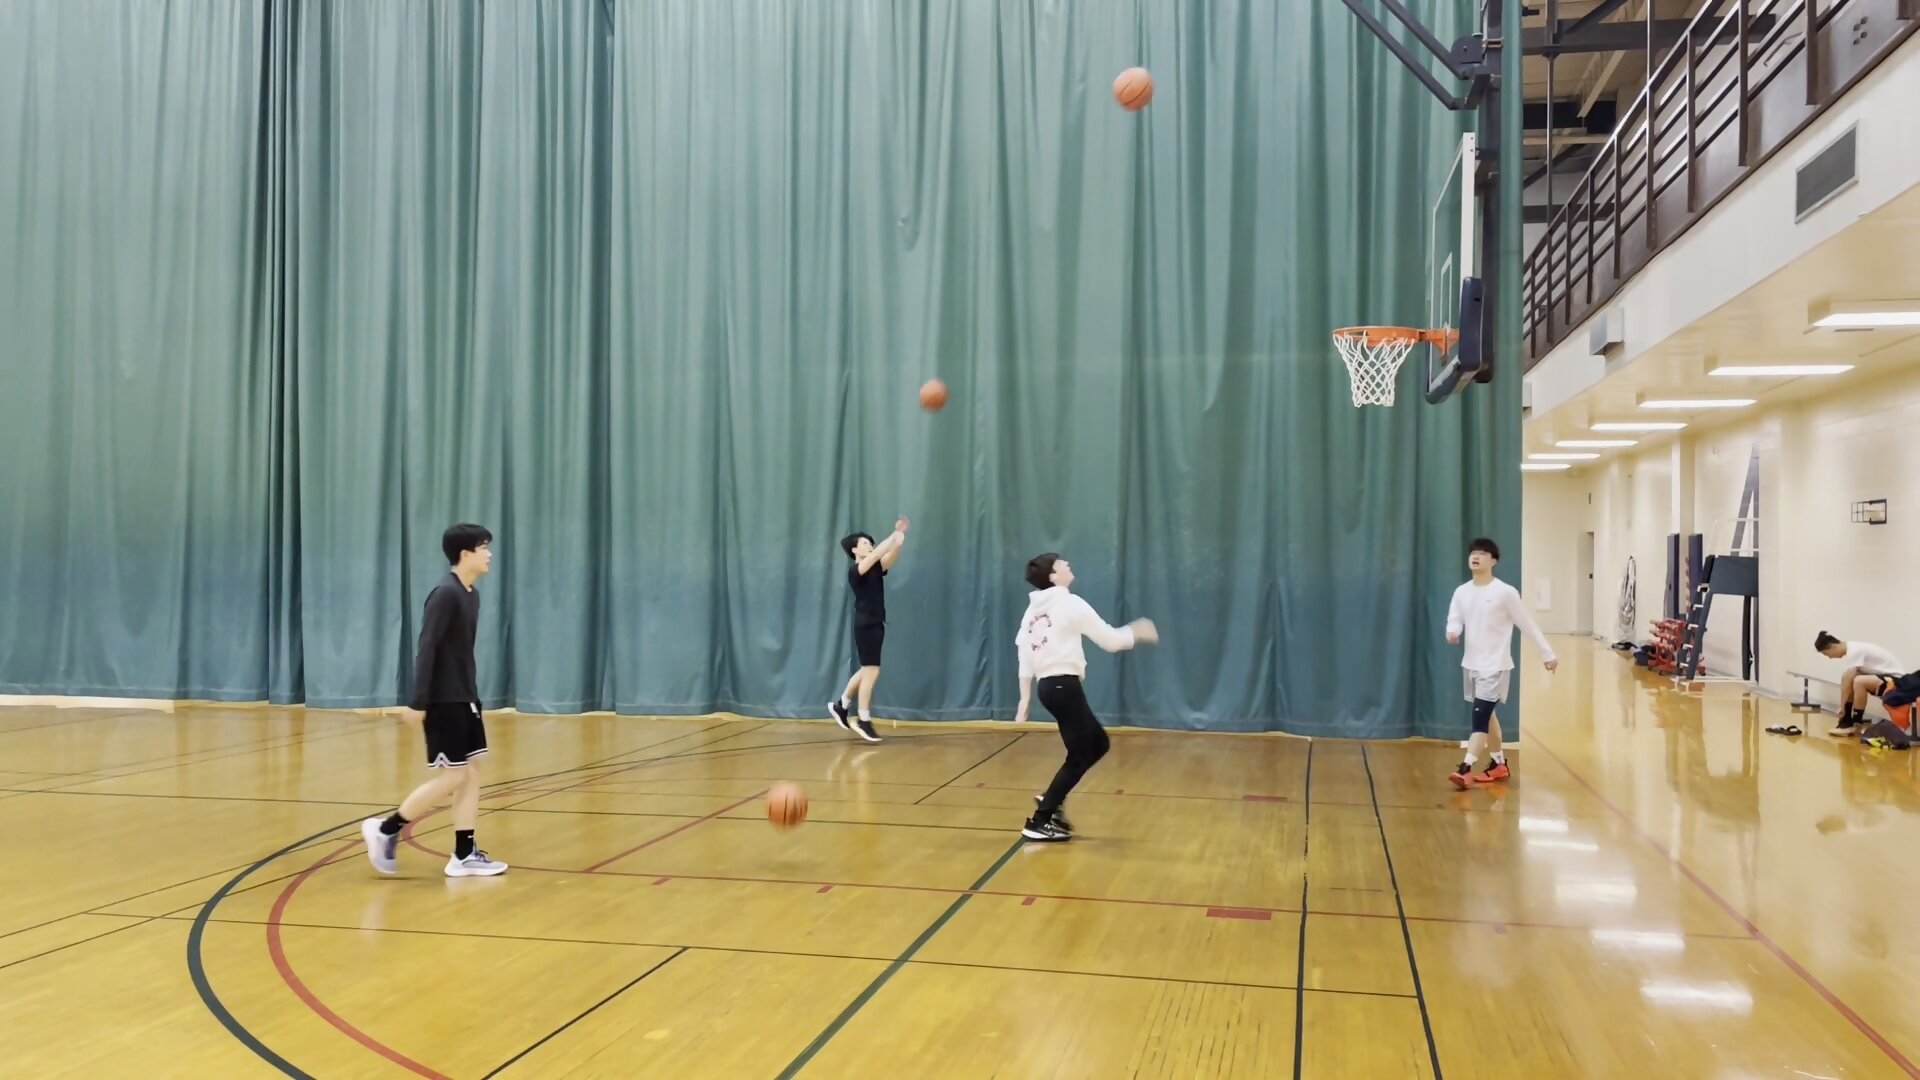ball: (1108, 62, 1162, 115), (762, 781, 814, 835), (916, 379, 950, 415)
net: (1345, 381, 1406, 414)
player: (355, 519, 512, 882), (1012, 548, 1158, 844), (1444, 538, 1554, 795), (836, 519, 915, 734), (1816, 630, 1905, 743)
rim: (1325, 319, 1427, 354)
